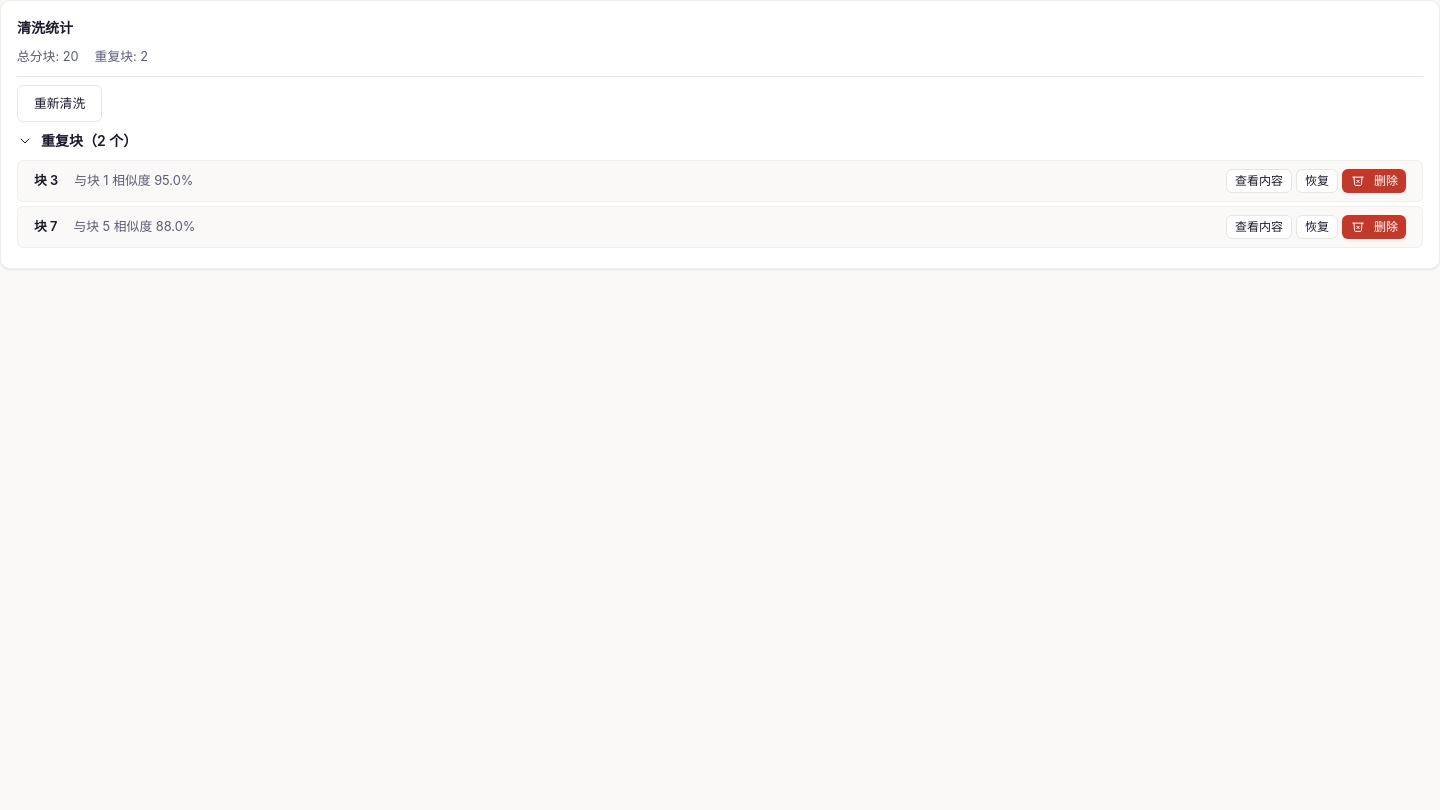
Test: 折叠状态不影响数据操作 › ★ 点「删除」只弹确认框、不调接口（折叠没绕过那道确认）
Click the button "删除" in the row of "与块 1 相似度 95.0%" at (1374, 181), box [1342, 169, 1406, 193]
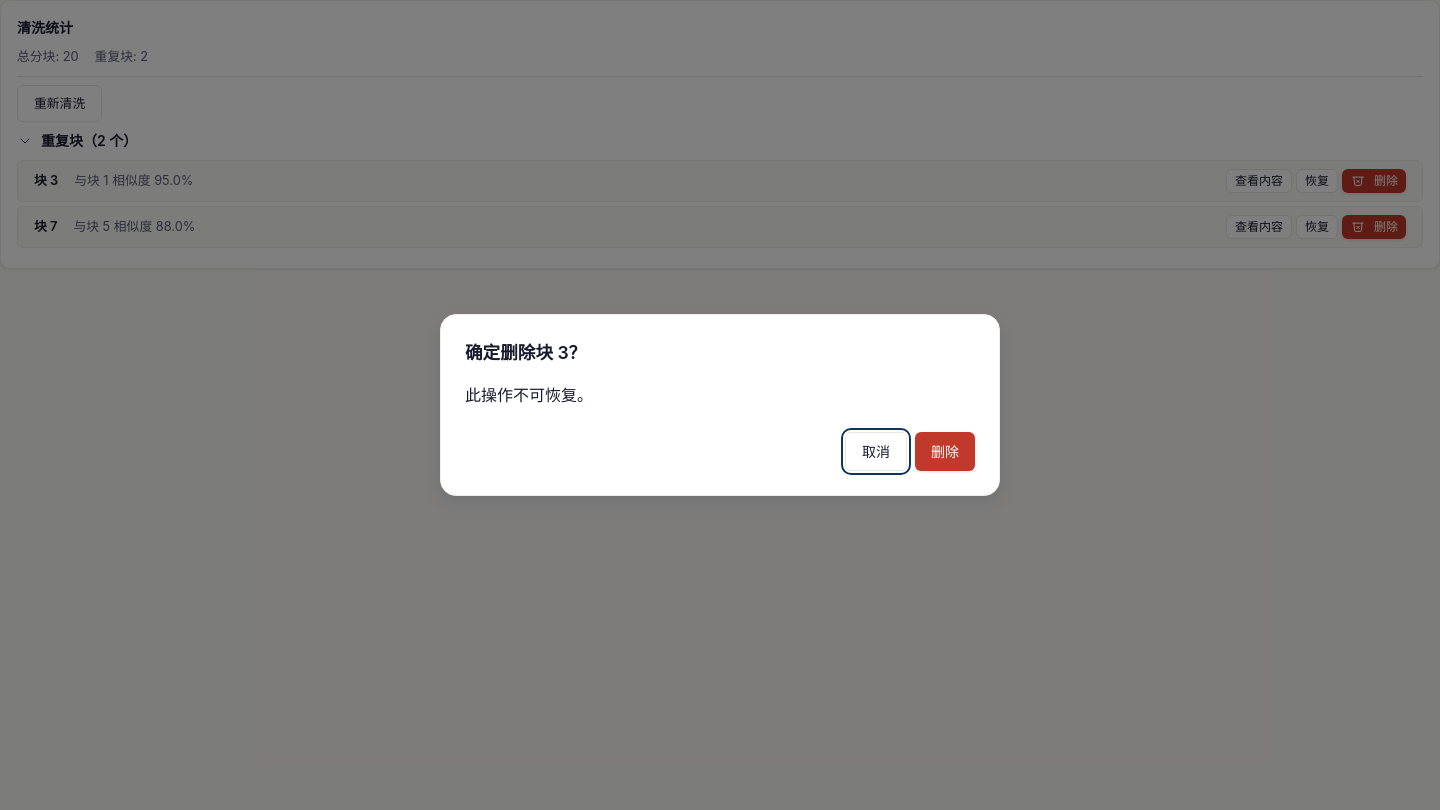
Expected: the heading "确定删除块 3？" is shown, [465, 342, 586, 363]
